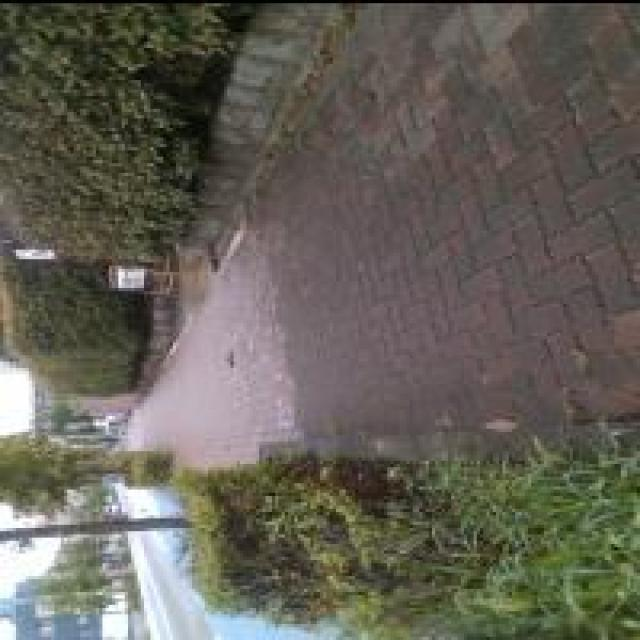Obstacle: (100, 440, 639, 639), (145, 253, 209, 374), (0, 440, 95, 502), (110, 268, 146, 290)
Road: (129, 533, 214, 639)
Sidewalk: (137, 3, 639, 461)
